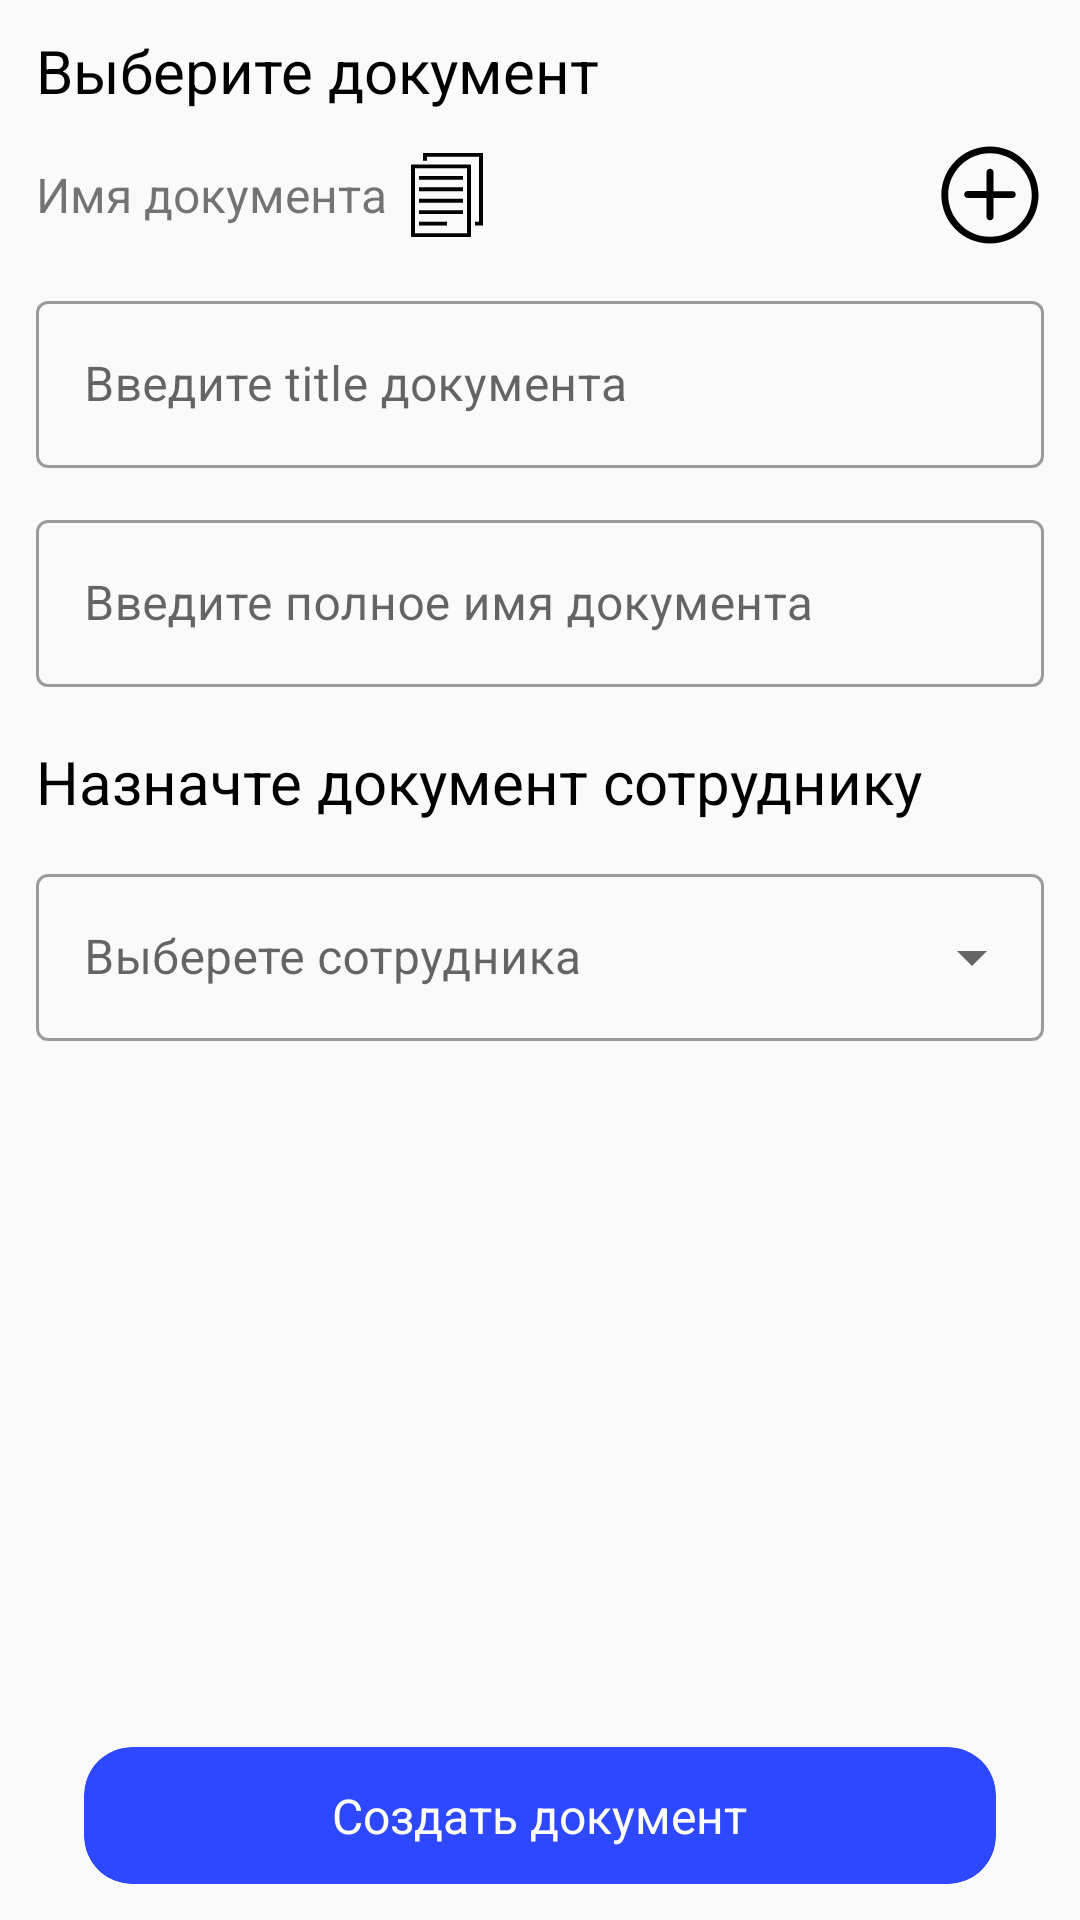

Locate icon controls on the screen. Image size 1080 × 1920, boxes as detection(x1, y1, x2, y2).
cercle add: detection(941, 146, 1039, 244)
